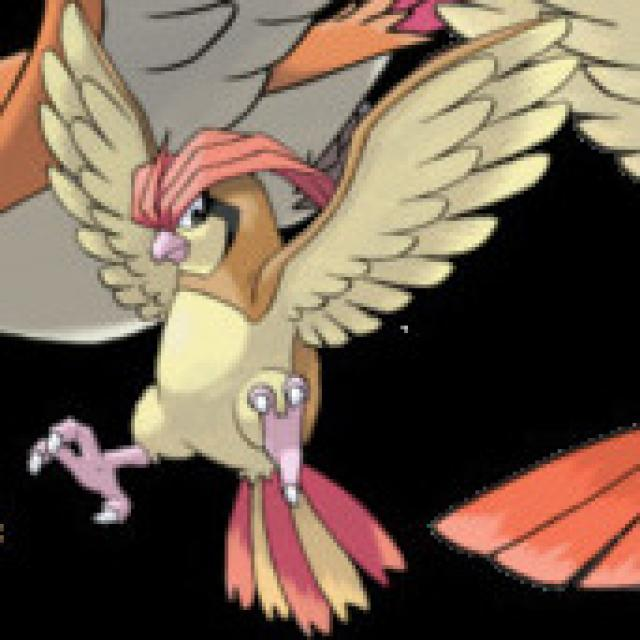Pidgeotto: (29, 69, 404, 628)
